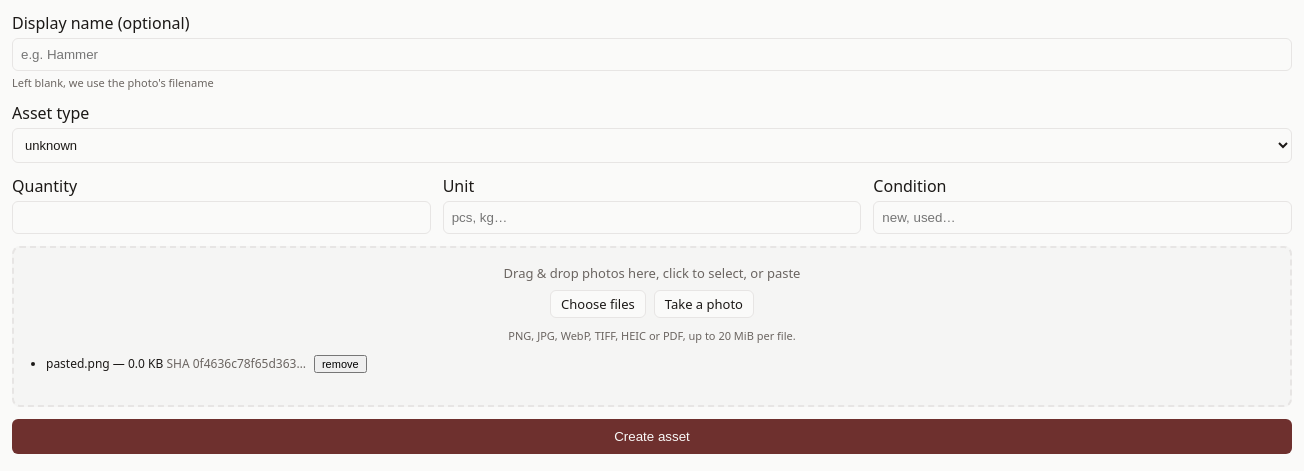
Scenario: AssetForm › a paste carrying an image file stages it with name and size, and remove deletes it
Expected: the list item "pasted.png — 0.0 KB SHA 0f4636c78f65d363… remove" is shown, [46,355,367,373]
Click the button "remove": (340, 364) [314,355,367,373]
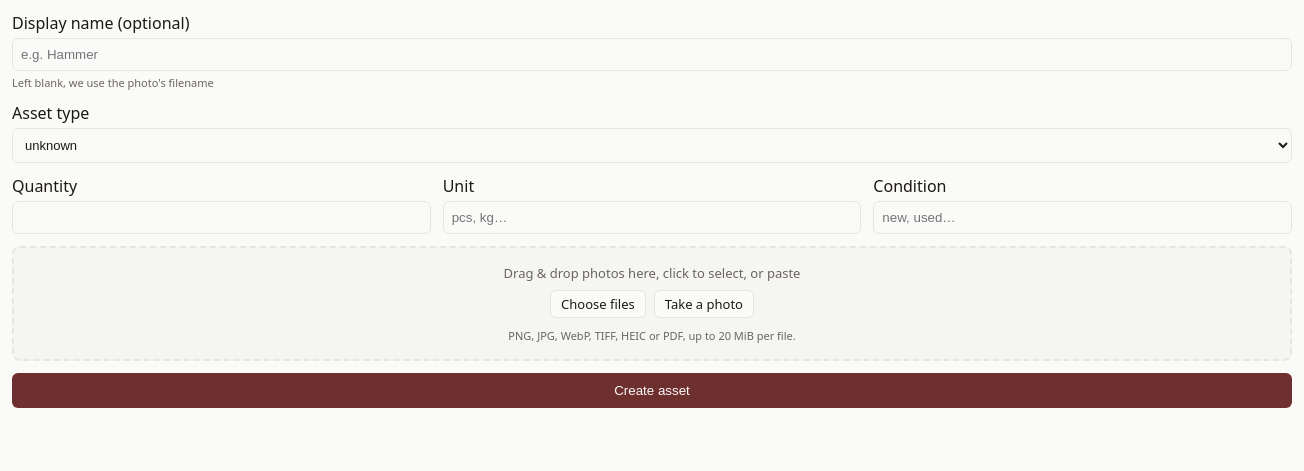
Expected: the list item "pasted.png" is gone
